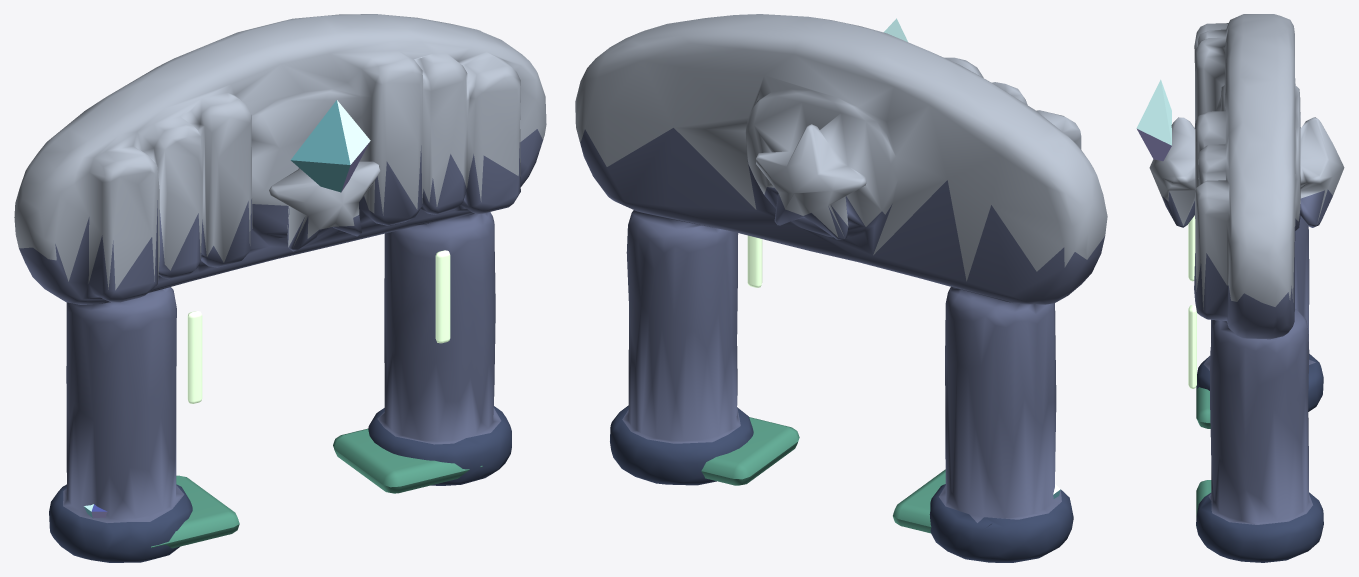
File: gate.glb
3 renders of one model, left to right at view 1: azimuth 30°, elevation 25°; view 2: azimuth 150°, elevation 25°; view 3: azimuth 270°, elevation 25°, orthographic. The views are drawn at different scales.
Parts seen in each view (by area): view 1: Tripo gate stone body, Moss foot cushion.001, Broad rune crest, Moss foot cushion, Single inset rune stroke.001, Single inset rune stroke; view 2: Tripo gate stone body, Moss foot cushion.001, Moss foot cushion, Single inset rune stroke.001; view 3: Tripo gate stone body, Broad rune crest, Single inset rune stroke.001, Moss foot cushion, Single inset rune stroke, Moss foot cushion.001.
Part boxes in pixels (x1,y1,x2,y2): Tripo gate stone body: (14,14,546,562); Moss foot cushion.001: (333,428,482,493); Broad rune crest: (290,100,370,192); Moss foot cushion: (151,475,239,548); Single inset rune stroke.001: (435,250,450,343); Single inset rune stroke: (187,311,202,403); Tripo gate stone body: (575,14,1107,562); Moss foot cushion.001: (701,417,799,485); Moss foot cushion: (893,469,945,533); Single inset rune stroke.001: (747,235,762,287); Tripo gate stone body: (1149,14,1344,562); Broad rune crest: (1136,79,1171,161); Single inset rune stroke.001: (1188,305,1196,388); Moss foot cushion: (1196,386,1210,428); Single inset rune stroke: (1188,215,1195,281); Moss foot cushion.001: (1196,480,1211,526).
Bounding box in the file's own units: 2.83 × 2.45 × 1.11.
